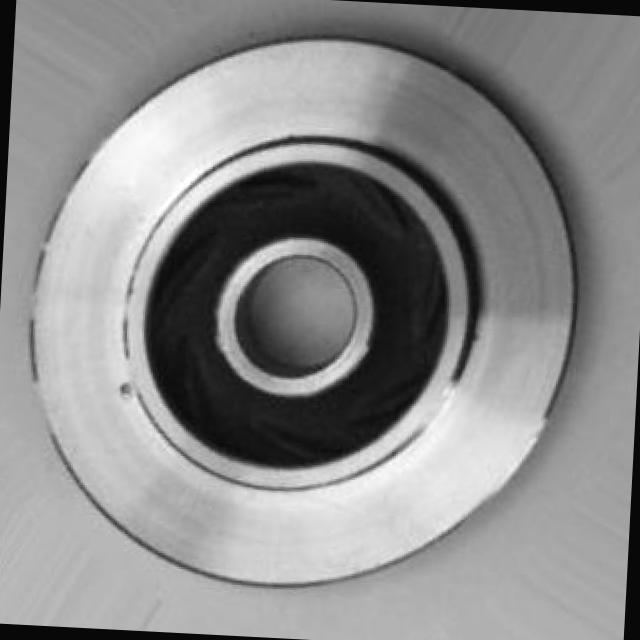Defect: (110, 378, 148, 413)
